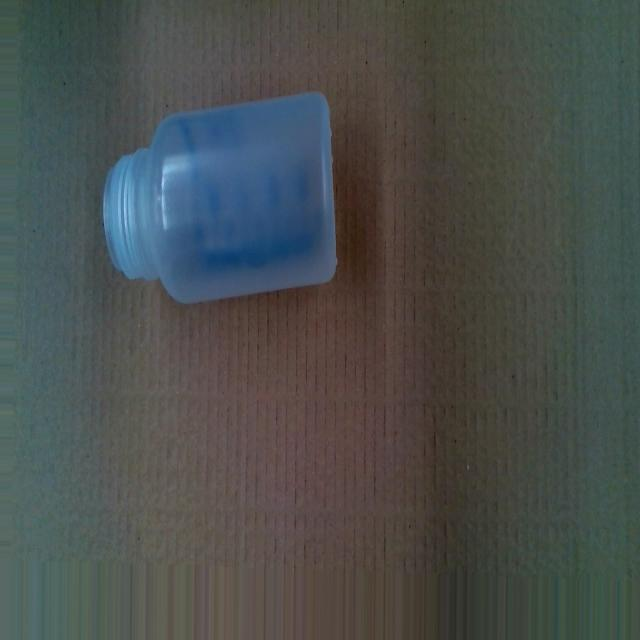bottle: (104, 90, 338, 304)
